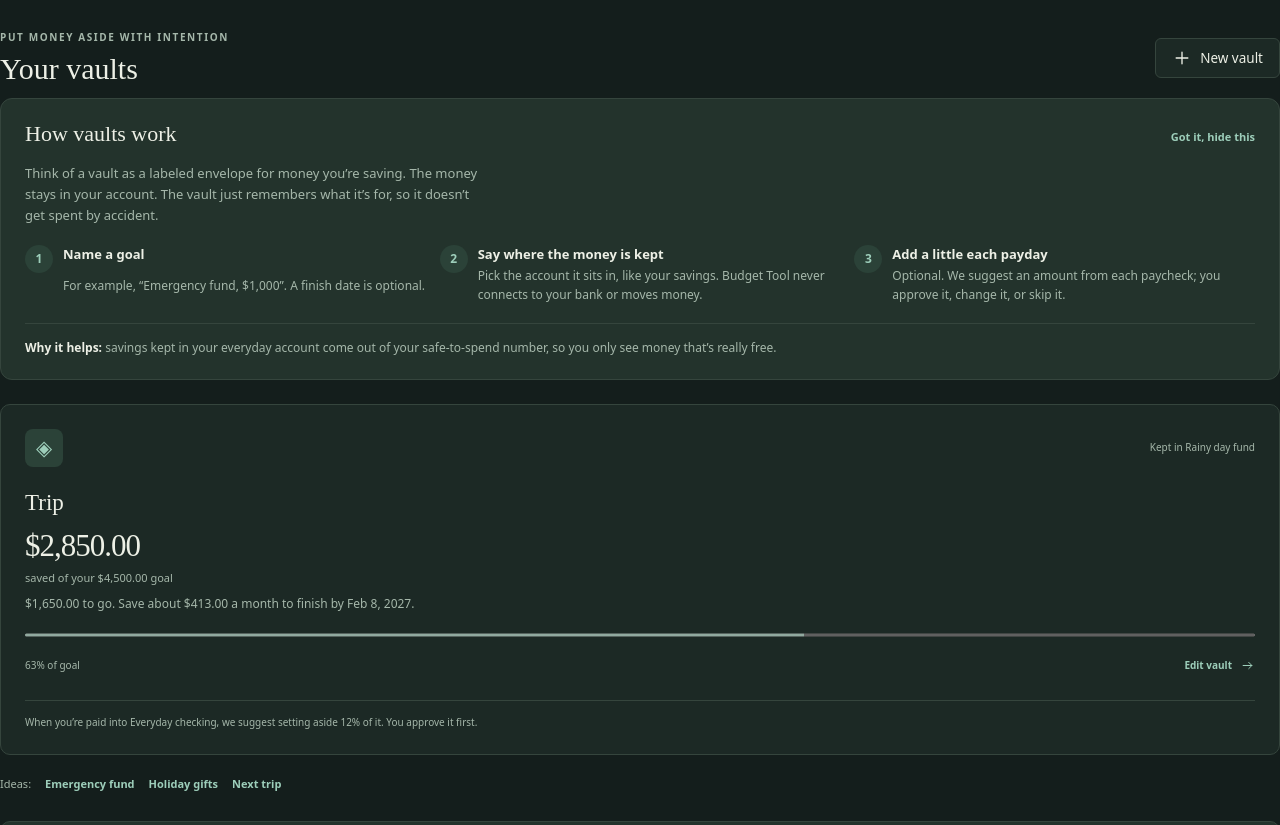
Test: demo vault allocation review › explains vaults in plain language, gives a monthly target, and remembers when the guide is hidden
Expected: the text "$1,650.00 to go. Save about $413.00 a month to finish by Feb 8, 2027." is shown, [25,595,414,612]
Click the button "Got it, hide this". click: (1213, 137)
box: [1171,122,1255,152]
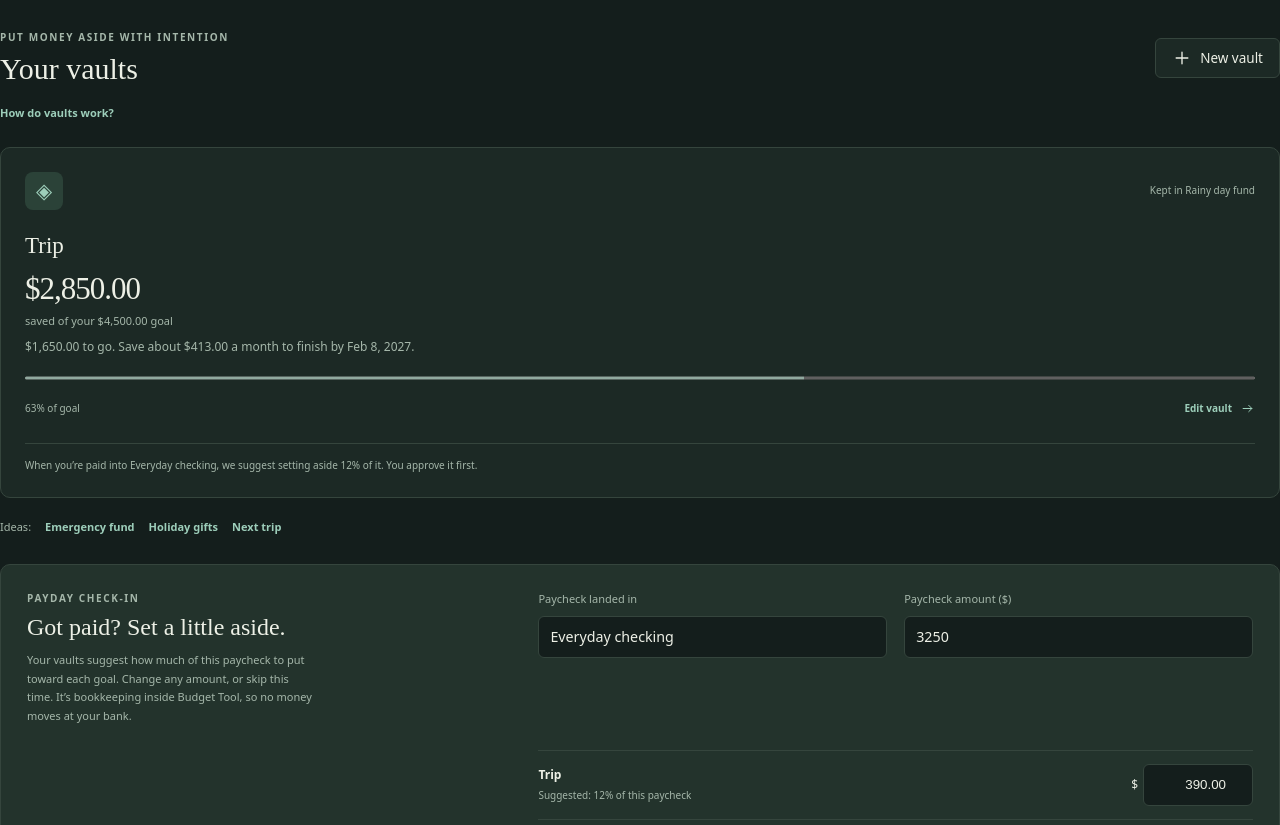
Click the button "Emergency fund". click: (90, 527)
box: [45,512,135,542]
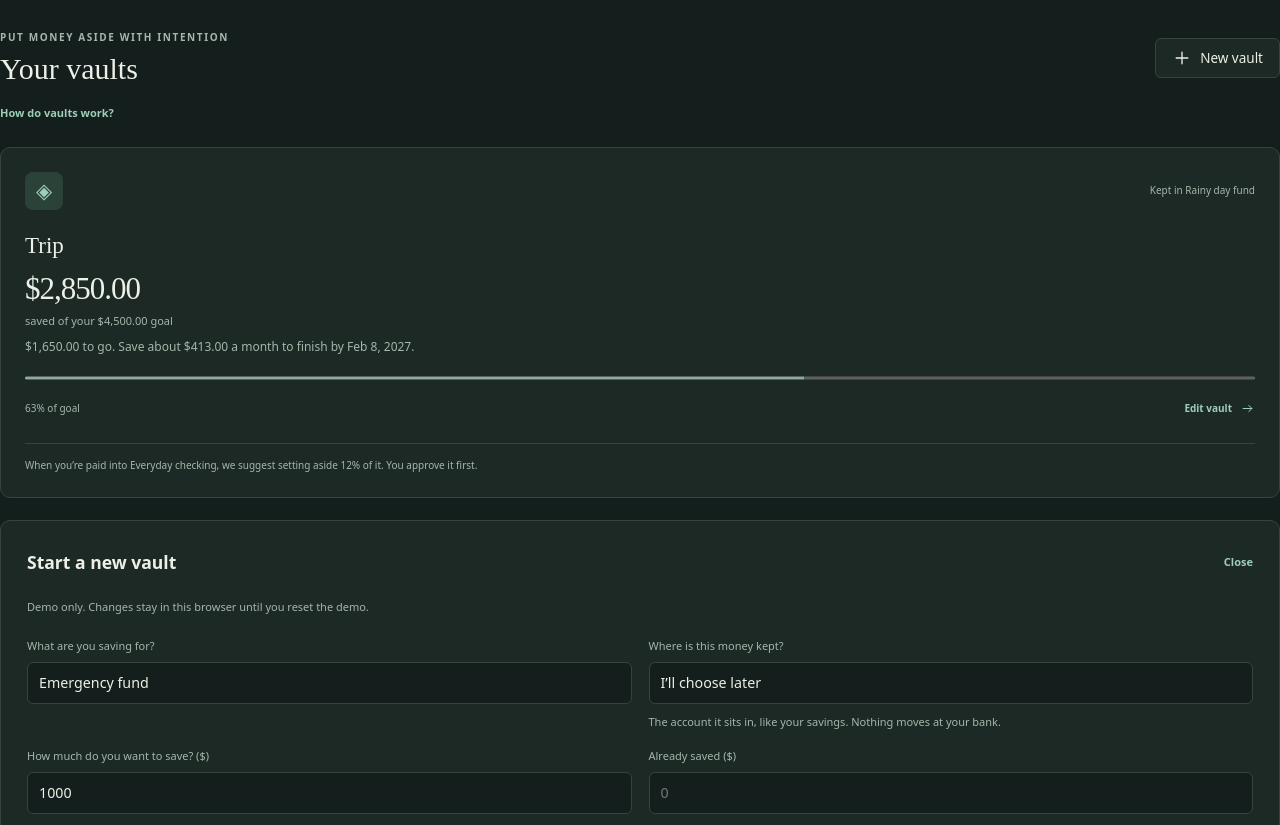
Expected: the field labelled "What are you saving for?" holds "Emergency fund", [27,662,632,704]
